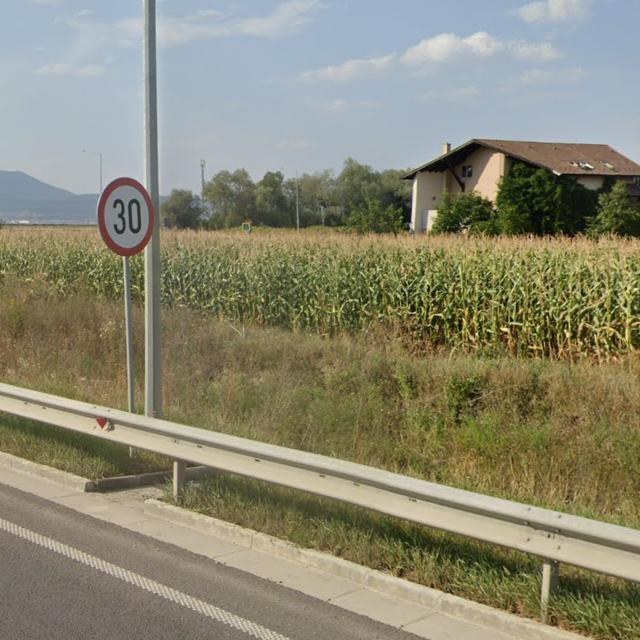forb_speed_over_30: (96, 175, 157, 256)
